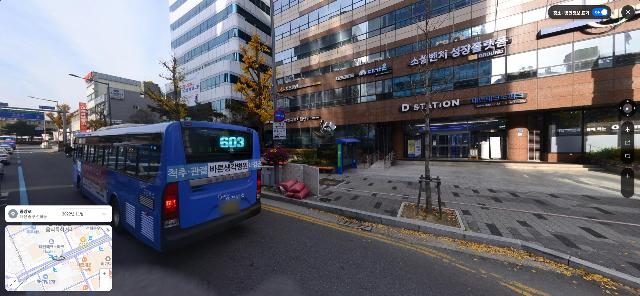ginkgo: (220, 28, 289, 144), (135, 51, 202, 122)
other: (372, 0, 487, 213)
